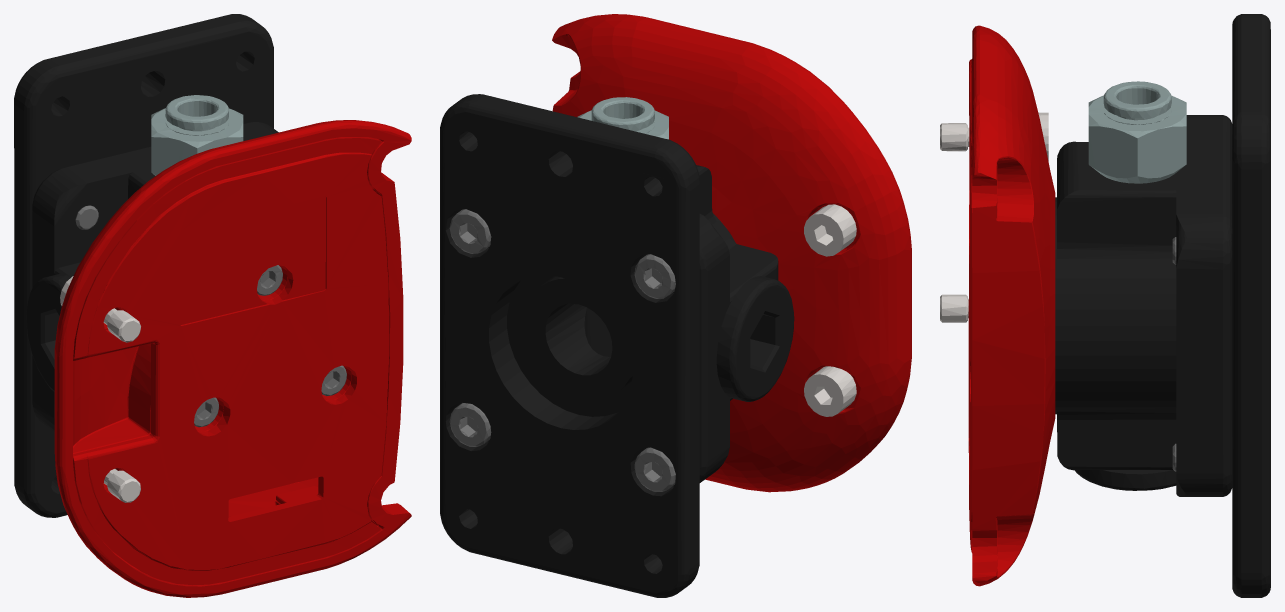
Rendered from pneumatic_gripper_base.DAE.
The picture shows the model from 3 angles, left to right: view 1: azimuth 30°, elevation 25°; view 2: azimuth 150°, elevation 25°; view 3: azimuth 270°, elevation 25°; orthographic projection. The views are drawn at different scales.
Parts seen in each view (by area): view 1: ShapeIndexedFaceSet_017; view 2: ShapeIndexedFaceSet_017; view 3: ShapeIndexedFaceSet_017.
Boxes of the visible parts, box(x1,y1,x2,y2) form: ShapeIndexedFaceSet_017: box(14, 14, 411, 597); ShapeIndexedFaceSet_017: box(440, 14, 911, 597); ShapeIndexedFaceSet_017: box(940, 14, 1270, 597).
Size of the model in its own units: 0.062 by 0.076 by 0.0472.
